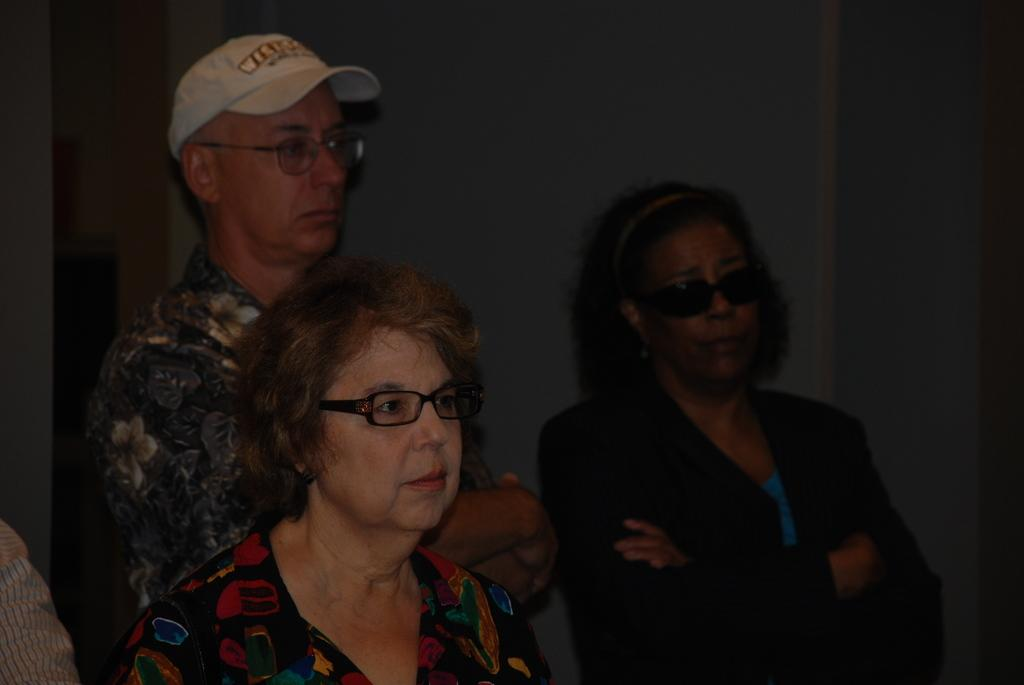Hat: (169, 32, 378, 160)
